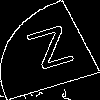Z: (24, 25, 83, 79)
